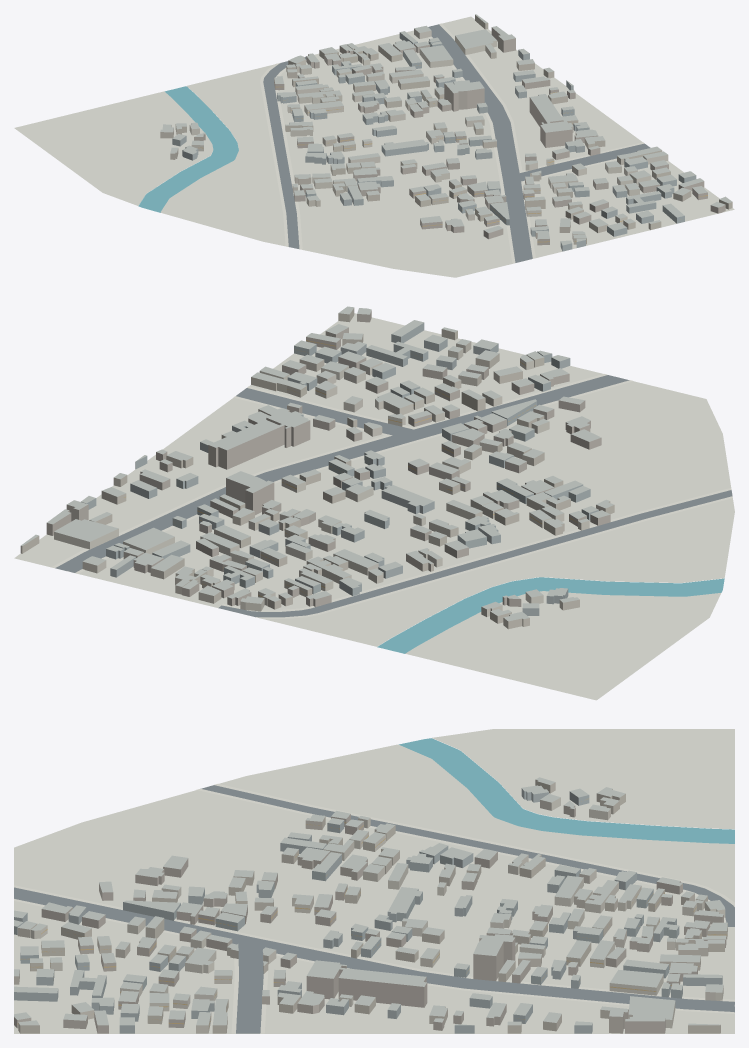
3 views of the same model, one above another, from view 1: azimuth 30°, elevation 25°; view 2: azimuth 150°, elevation 25°; view 3: azimuth 270°, elevation 25° (orthographic). The views are drawn at different scales.
Visible parts, largest first — view 1: city; view 2: city; view 3: city.
Boxes of the visible parts, x1,y1,x2,y2 form: city: (14, 14, 734, 277); city: (14, 306, 734, 700); city: (14, 729, 734, 1033).
Size of the model in its own units: 500 by 19.38 by 500.
